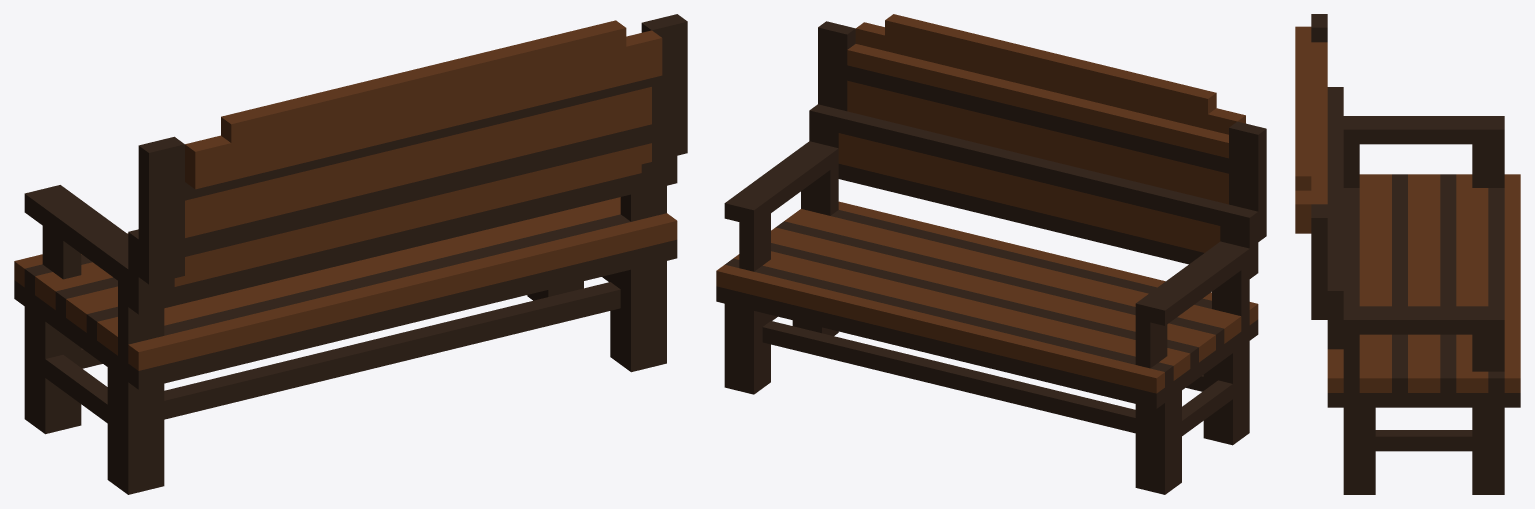
Rendered from Bench.fbx.
3 views of the same model, side by side, from view 1: azimuth 30°, elevation 25°; view 2: azimuth 150°, elevation 25°; view 3: azimuth 270°, elevation 25° (orthographic). The views are drawn at different scales.
Visible parts, largest first — view 1: Bench; view 2: Bench; view 3: Bench.
Part boxes in pixels (x1,y1,x2,y2): Bench: (14, 14, 687, 494); Bench: (716, 14, 1266, 494); Bench: (1295, 14, 1520, 494).
Bounding box in the file's own units: 300 × 200 × 140.
